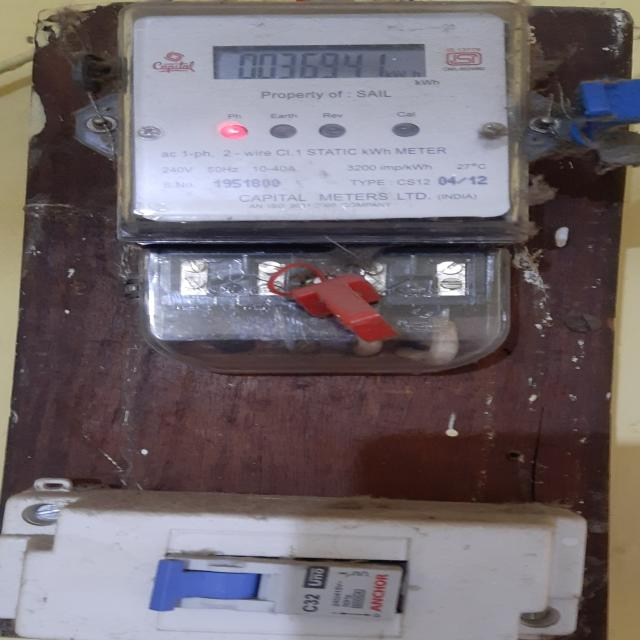display: (202, 45, 439, 83)
